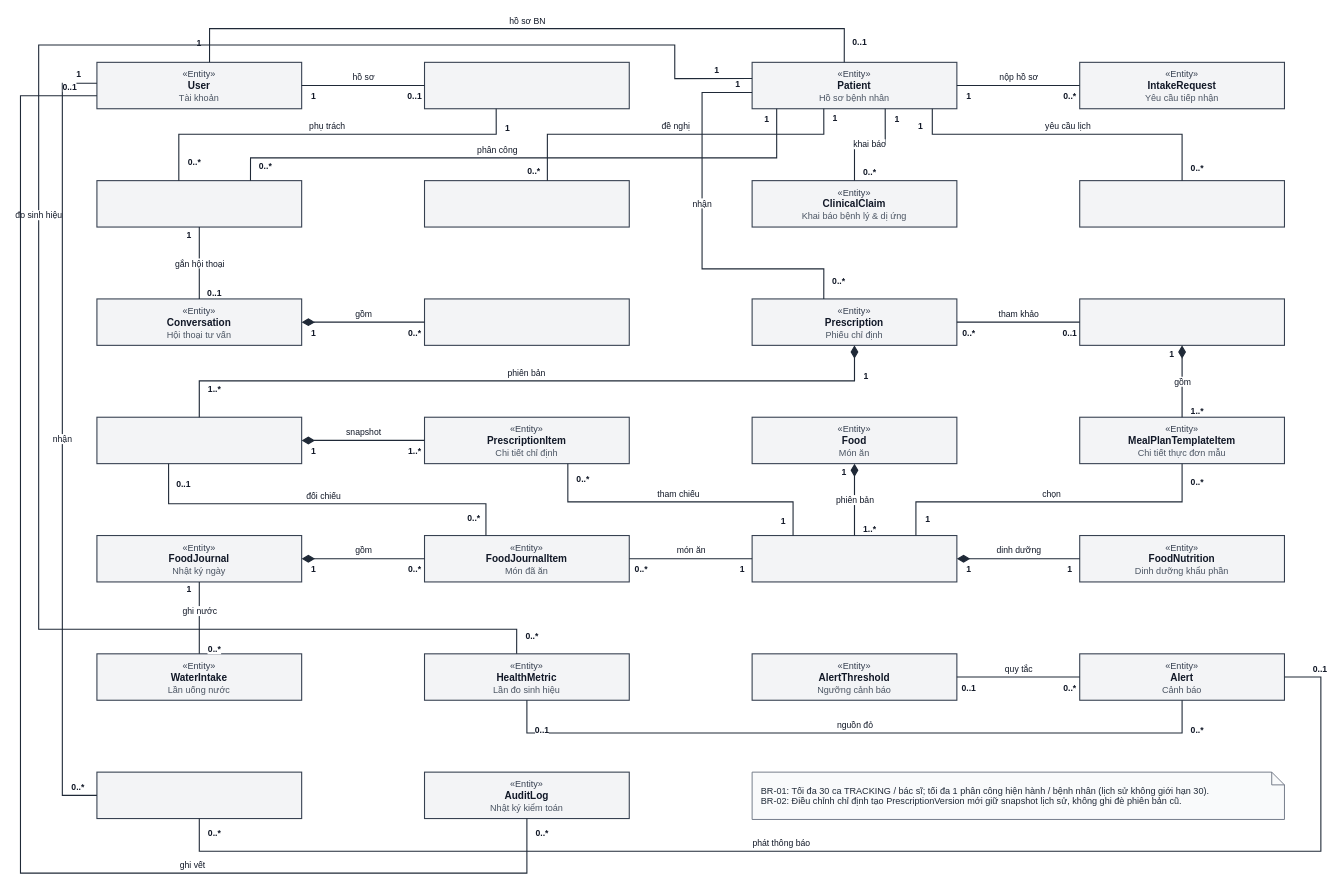
The diagram is 1342 pixels wide and 891 high, and some of its shapes have lost their labels. The shapes that lost their labels are listed below. From the top down, each one's box as (x1, y1, x2, y2) in pixels, then its label:
(424, 61, 629, 109): «Entity» Doctor Hồ sơ bác sĩ
(96, 180, 302, 227): «Entity» DoctorPatientAssignment Phân công điều trị
(424, 180, 629, 227): «Entity» TrackingPause Yêu cầu tạm dừng
(1079, 180, 1285, 227): «Entity» AppointmentRequest Lịch hẹn khám / tái khám
(424, 298, 629, 345): «Entity» Message Tin nhắn / thẻ sự kiện
(1079, 298, 1285, 345): «Entity» MealPlanTemplate Thực đơn mẫu
(96, 416, 302, 464): «Entity» PrescriptionVersion Phiên bản chỉ định
(751, 535, 957, 582): «Entity» FoodVersion Phiên bản món ăn
(96, 771, 302, 819): «Entity» Notification Thông báo
